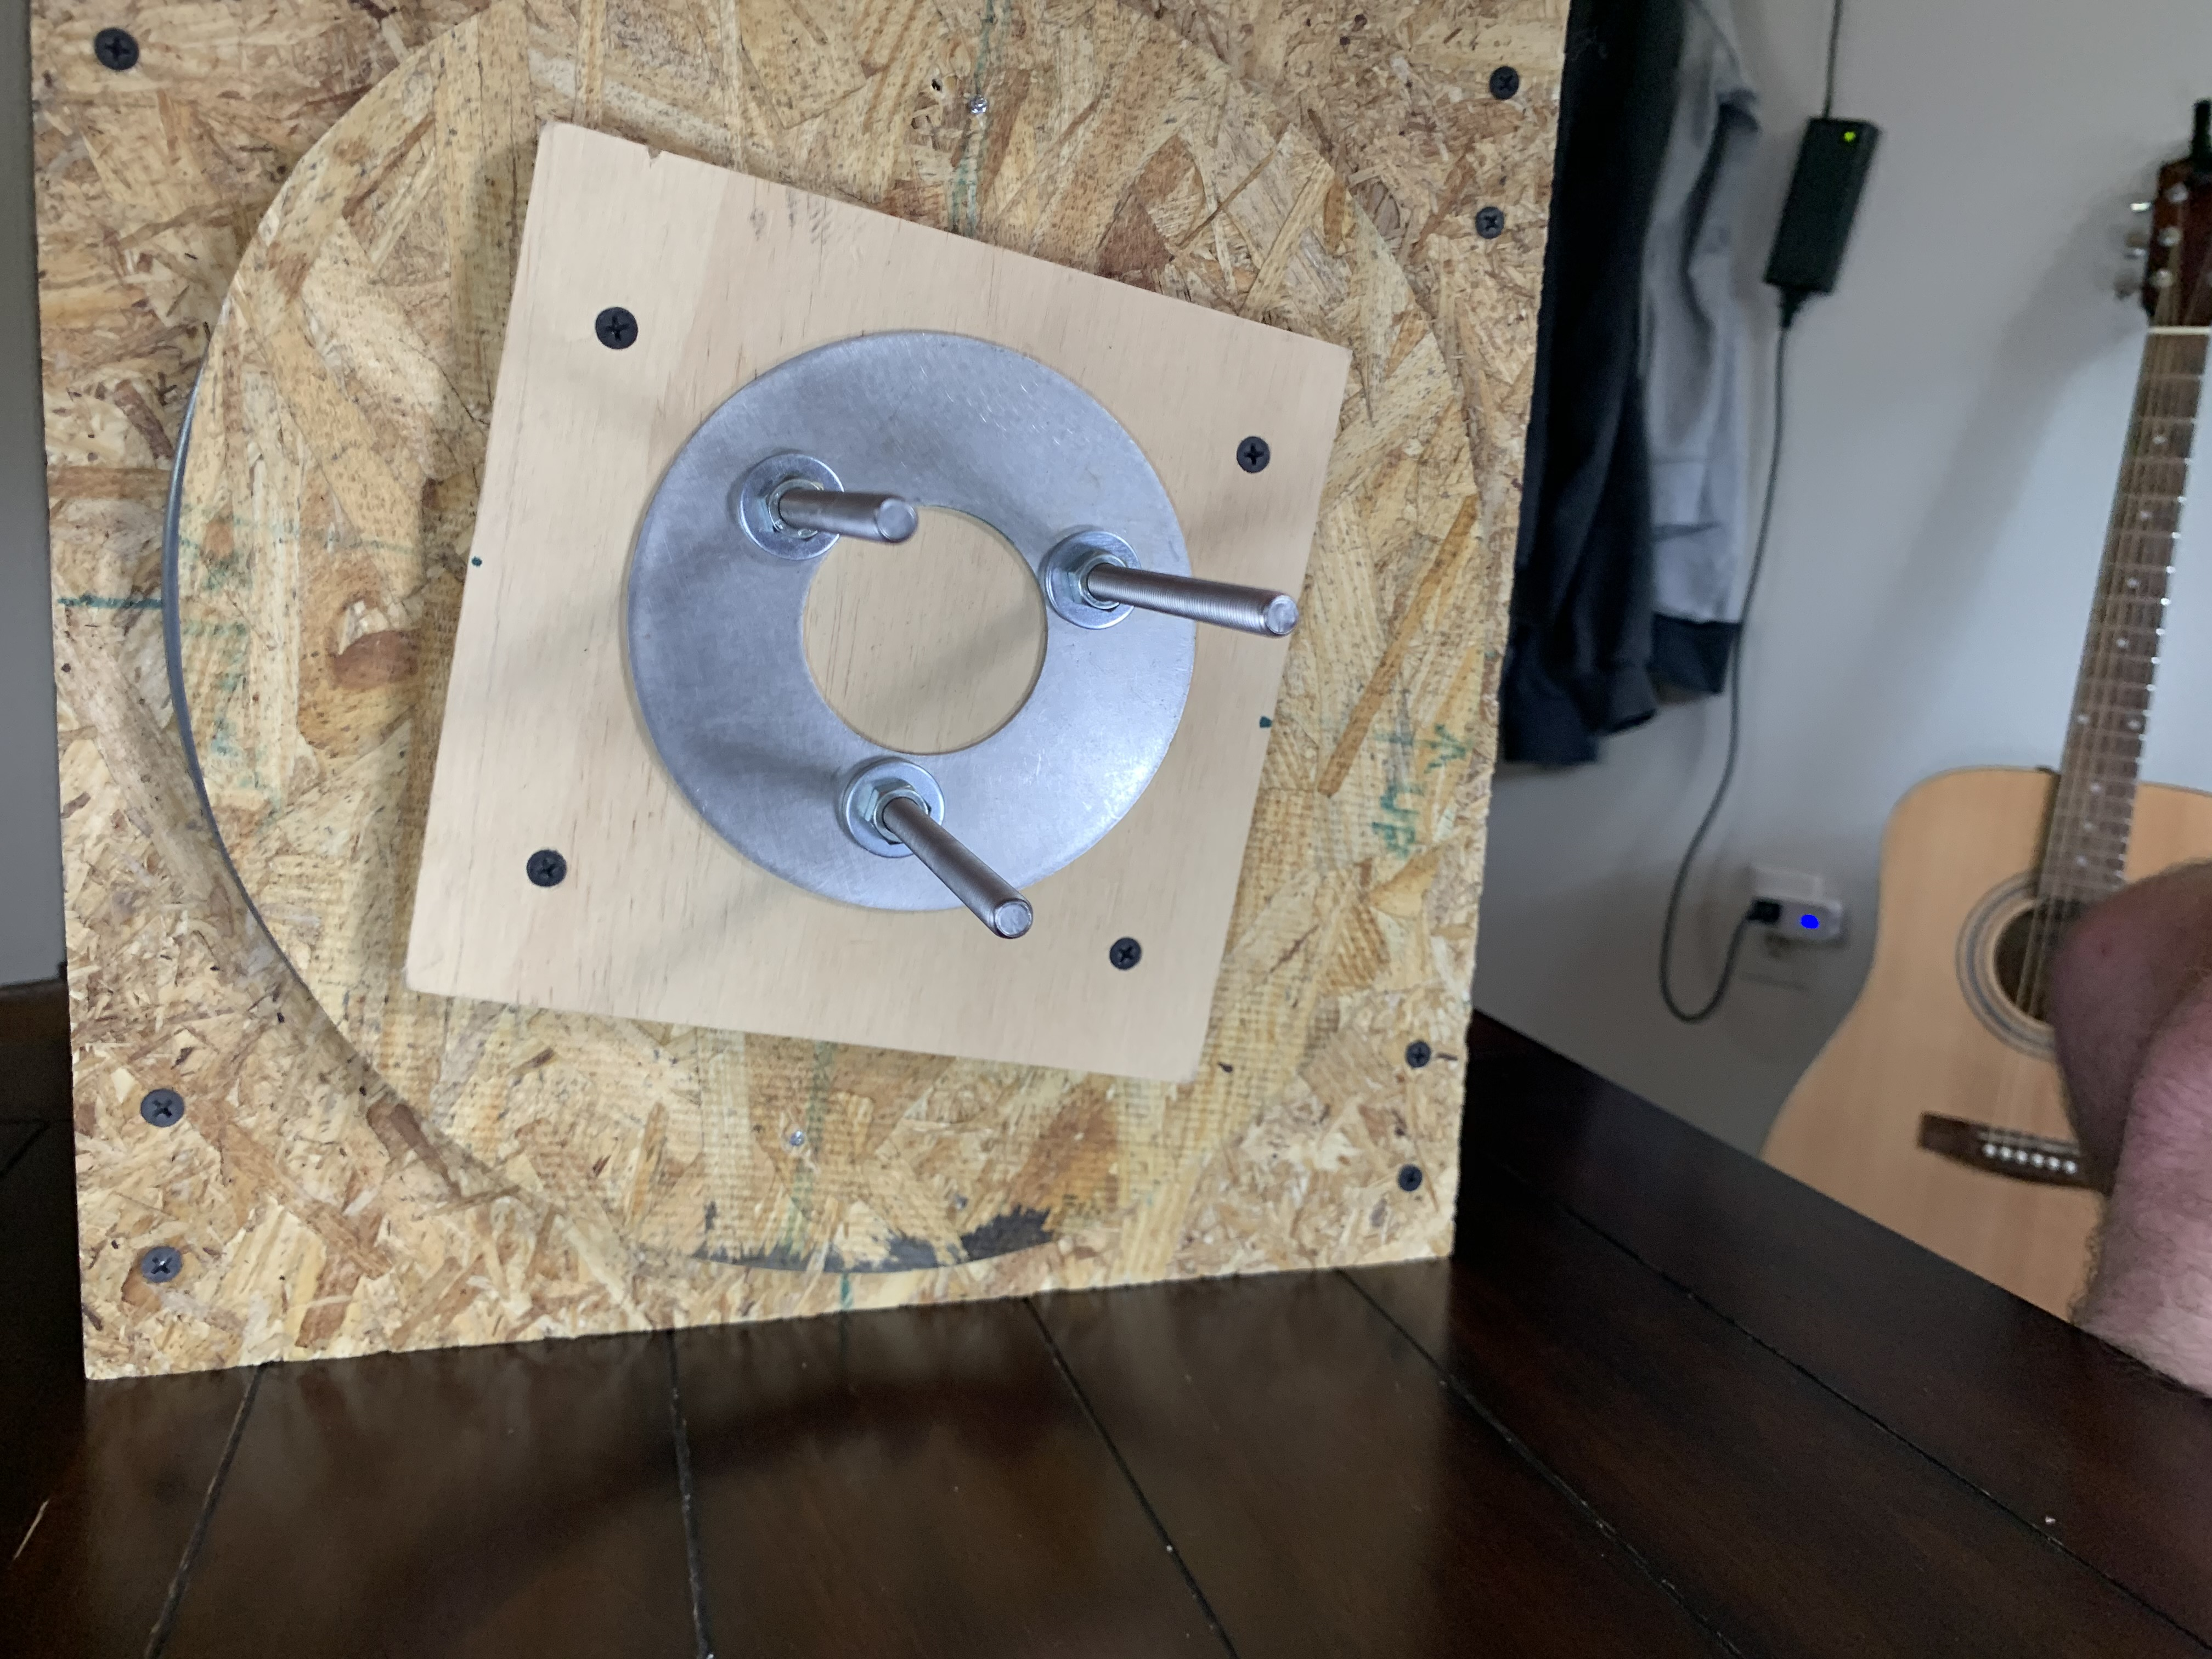bolt: (732, 451, 841, 565), (833, 756, 944, 859), (1038, 528, 1141, 633)
